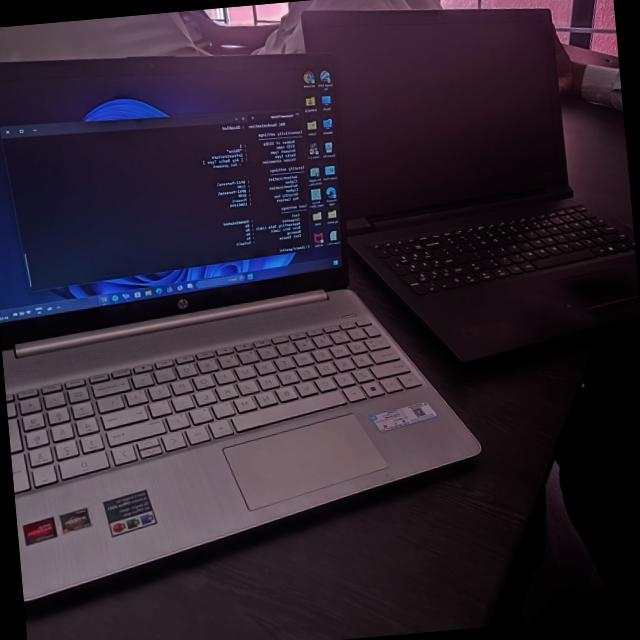laptop: (0, 39, 493, 591), (362, 0, 626, 359)
